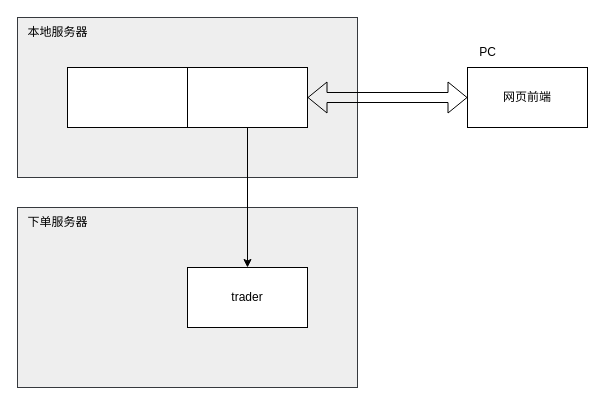
Image size: 605x405. Some labels were removed from this diagram. The shapes that lost their labels are listed below. From the top down, each one's centre as x and y in pixels, then its label:
At (127,97): "行情".
At (247,97): "后端".
